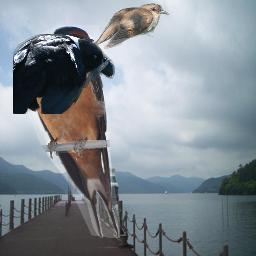Crow: (13, 34, 115, 114)
Cuckoo: (67, 3, 169, 69)
Swallow: (25, 25, 120, 238)
